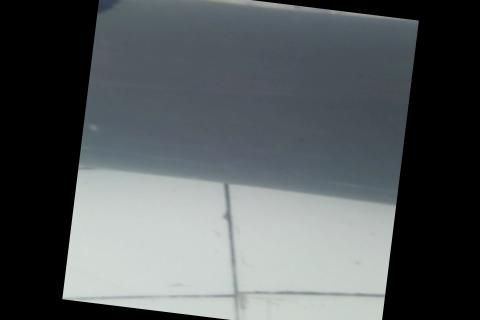kebocoran: (96, 0, 126, 17)
